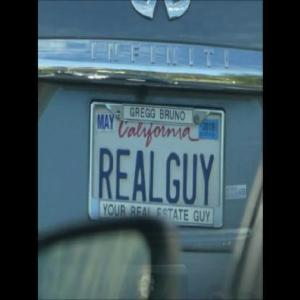Plate: (90, 102, 226, 226)
